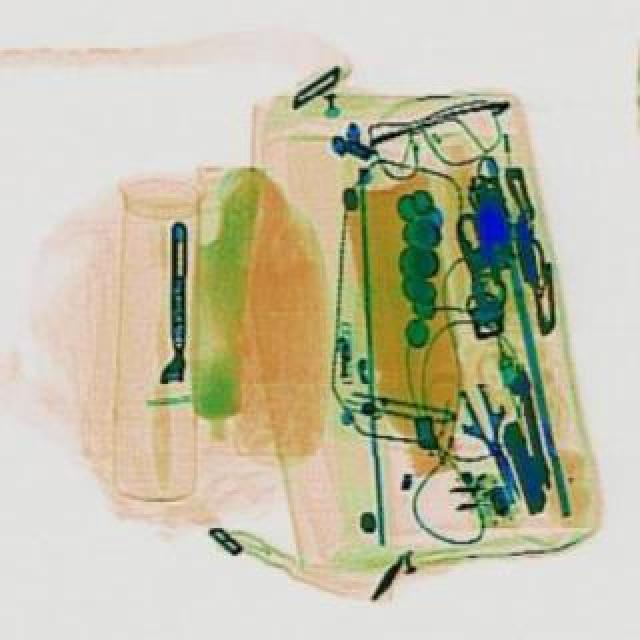knife: (446, 376, 538, 508)
